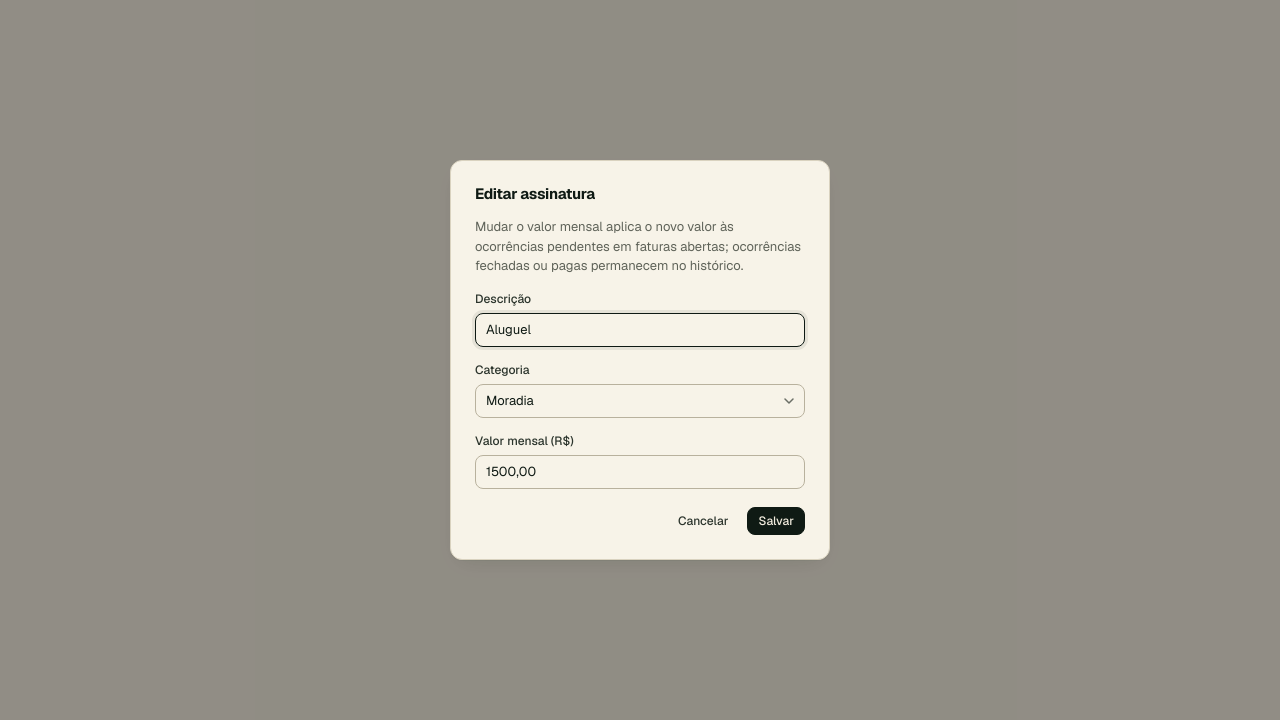
Test: EditarAssinaturaModal — erro ao salvar › mostra a mensagem sem o prefixo do Electron
Step 1. Click the button "Salvar" → (776, 521), box [747,507,805,535]
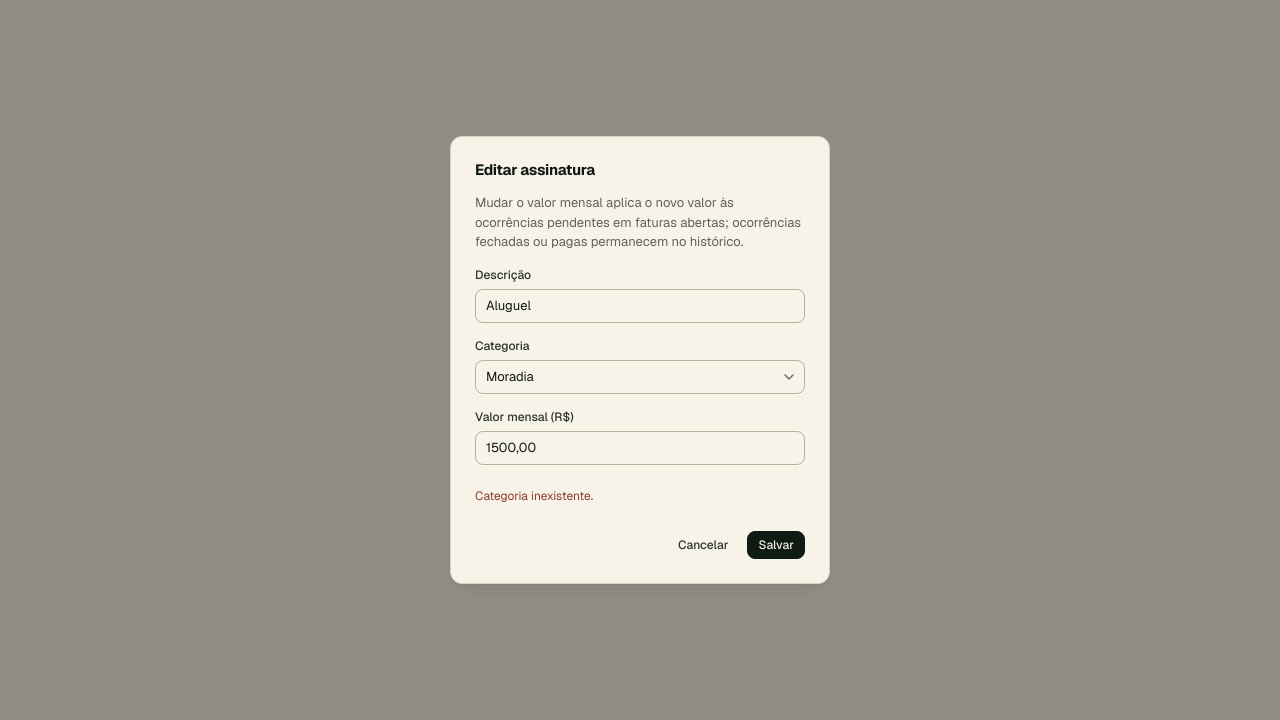
Result: the text "Categoria inexistente." is shown at [475,488,593,504]
